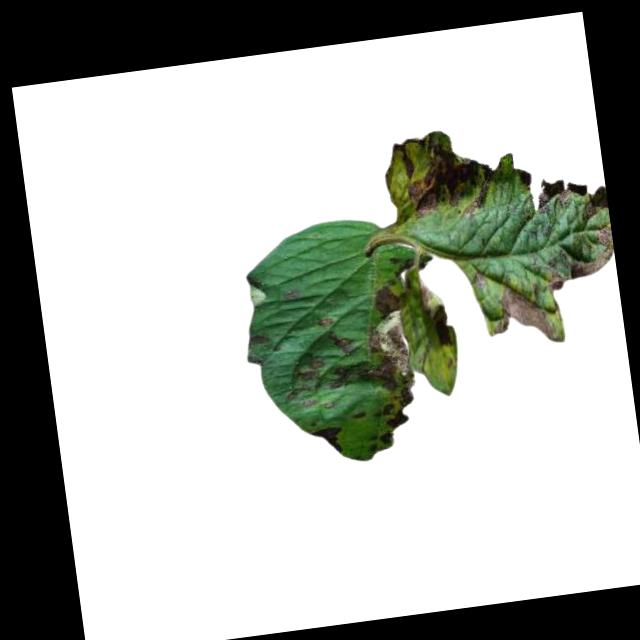Early_blight: (378, 124, 500, 229), (363, 282, 420, 394), (542, 224, 617, 294), (489, 275, 553, 346), (379, 389, 423, 445), (534, 176, 575, 214), (430, 301, 456, 352), (310, 426, 344, 454), (301, 356, 326, 384), (334, 336, 356, 355)
